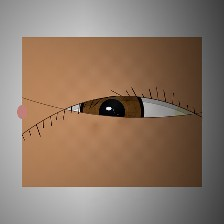pinguecula_lesion: (166, 100, 199, 127)
